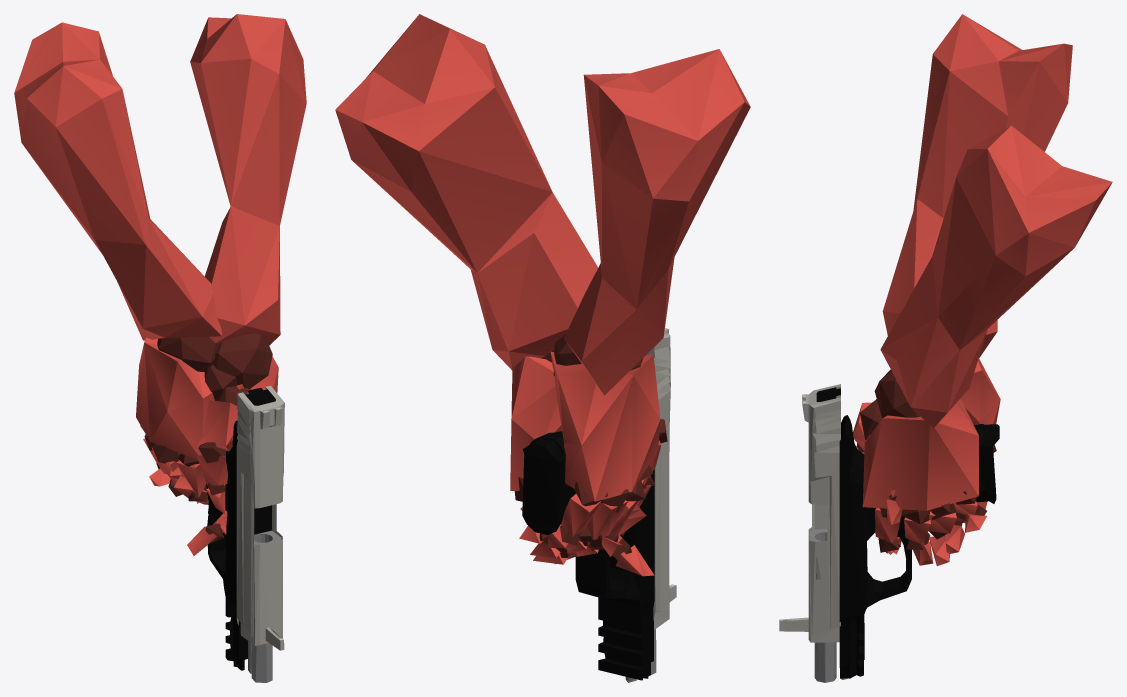
The model's file is M&P9shootLowP.obj.
3 renders of one model, left to right at view 1: azimuth 30°, elevation 25°; view 2: azimuth 150°, elevation 25°; view 3: azimuth 270°, elevation 25°, orthographic. The views are drawn at different scales.
Visible parts, largest first — view 1: Beta_Surface.001_Beta_Surface.002, slide_平面.002, Beta_Joints.001_Beta_Joints.002, triger_平面.001; view 2: Beta_Surface.001_Beta_Surface.002, triger_平面.001, slide_平面.002, Beta_Joints.001_Beta_Joints.002; view 3: Beta_Surface.001_Beta_Surface.002, triger_平面.001, slide_平面.002, Beta_Joints.001_Beta_Joints.002.
Part boxes in pixels (box(x1,y1,x2,y2)): Beta_Surface.001_Beta_Surface.002: box(14, 14, 306, 555); slide_平面.002: box(236, 385, 284, 650); Beta_Joints.001_Beta_Joints.002: box(139, 333, 272, 542); triger_平面.001: box(206, 420, 281, 682); Beta_Surface.001_Beta_Surface.002: box(335, 14, 750, 576); triger_平面.001: box(522, 431, 656, 682); slide_平面.002: box(645, 328, 676, 629); Beta_Joints.001_Beta_Joints.002: box(514, 334, 667, 564); Beta_Surface.001_Beta_Surface.002: box(853, 14, 1112, 565); triger_平面.001: box(810, 415, 999, 682); slide_平面.002: box(779, 384, 840, 642); Beta_Joints.001_Beta_Joints.002: box(857, 369, 996, 553).
Bounding box in the file's own units: 42.47 × 80.1 × 40.35.
